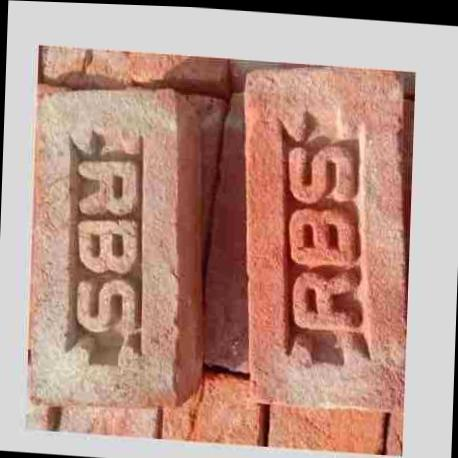brick: (230, 58, 414, 415), (26, 80, 192, 411)
